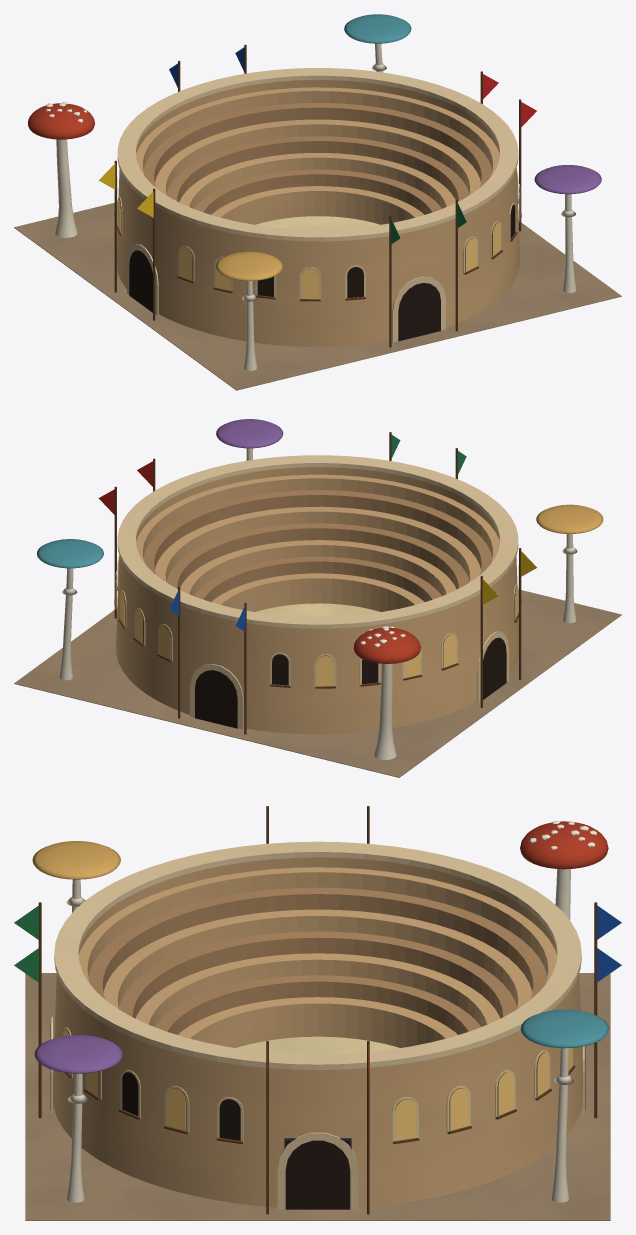
File: hl_arena.glb
3 renders of one model, top to bottom at view 1: azimuth 30°, elevation 25°; view 2: azimuth 150°, elevation 25°; view 3: azimuth 270°, elevation 25°, orthographic. The views are drawn at different scales.
Visible parts, largest first — view 1: dum, noc; view 2: dum, noc; view 3: dum, noc.
Boxes of the visible parts, left/top/right/bottom form: dum: left=14, top=14, right=621, bottom=390; noc: left=117, top=186, right=520, bottom=299; dum: left=14, top=419, right=621, bottom=777; noc: left=115, top=556, right=518, bottom=686; dum: left=14, top=806, right=621, bottom=1220; noc: left=63, top=1029, right=572, bottom=1140.
Size of the model in its own units: 30.12 by 9.49 by 30.12.
Materials: 1 (1 with a texture image).
